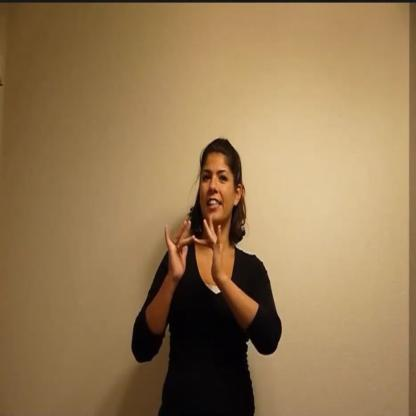Internet: (132, 137, 282, 410)
